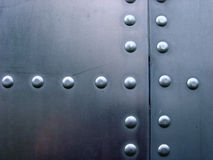rivet: (156, 113, 171, 129), (93, 76, 109, 91), (157, 143, 172, 158), (155, 39, 170, 54), (61, 75, 76, 90), (185, 77, 200, 91), (123, 116, 138, 130), (2, 75, 16, 90), (123, 76, 137, 91), (158, 75, 172, 89), (124, 144, 138, 158), (32, 75, 46, 89), (154, 15, 168, 28), (123, 14, 137, 27), (124, 40, 137, 54)
